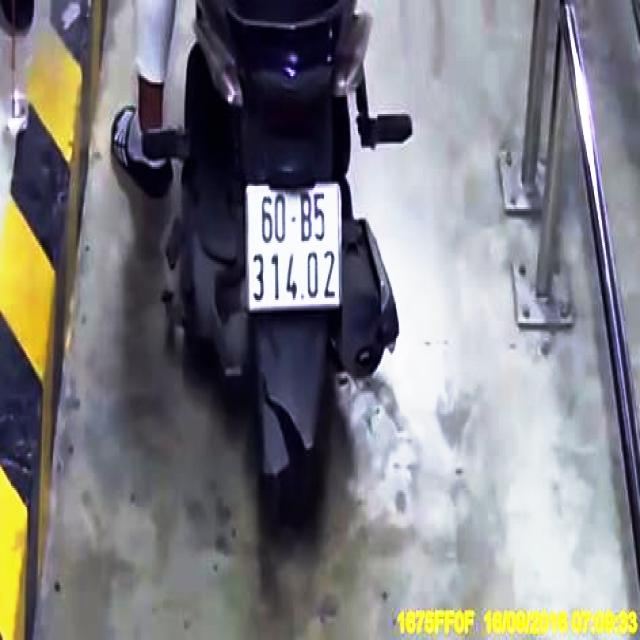license_plate: (247, 185, 342, 310)
